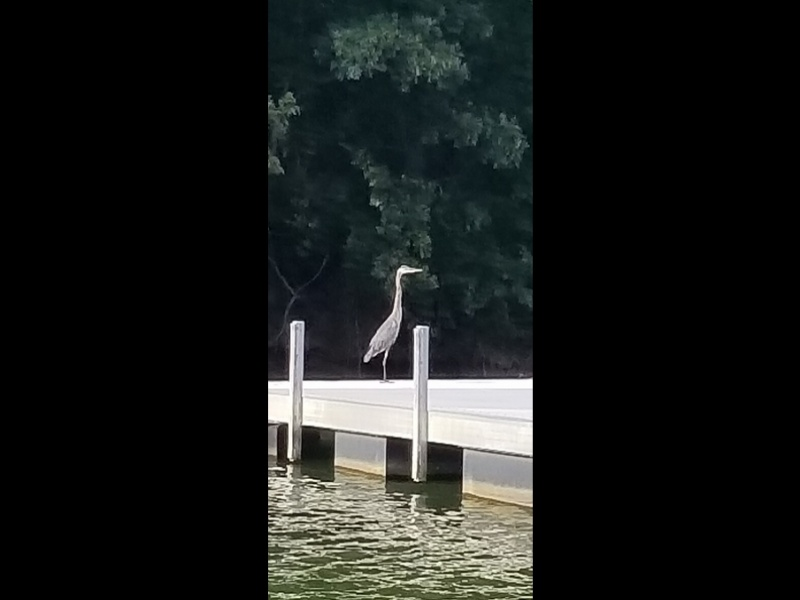heron: (358, 259, 422, 385)
